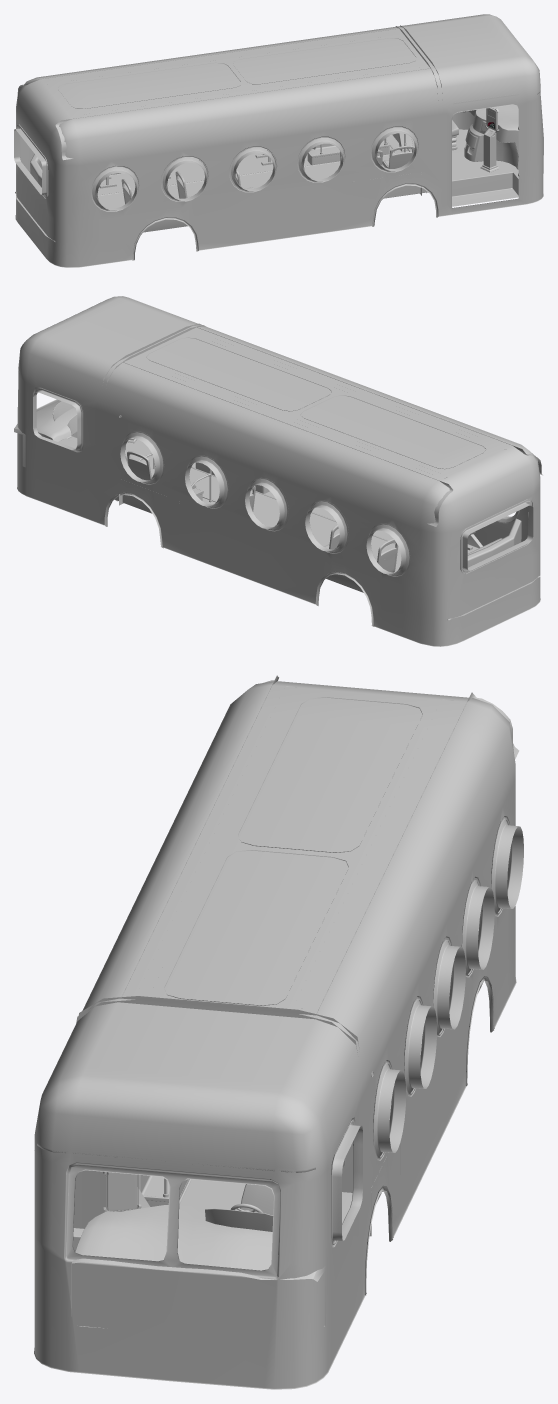
File: chenei.fbx
The picture shows the model from 3 angles, top to bottom: view 1: azimuth 30°, elevation 25°; view 2: azimuth 150°, elevation 25°; view 3: azimuth 270°, elevation 25°; orthographic projection. The views are drawn at different scales.
Visible parts, largest first — view 1: chenei; view 2: chenei; view 3: chenei.
Part boxes in pixels (bbox=[...]): chenei: bbox=[14, 14, 543, 267]; chenei: bbox=[14, 296, 542, 646]; chenei: bbox=[34, 675, 523, 1389].
Size of the model in its own units: 80.85 by 23.64 by 37.05.
